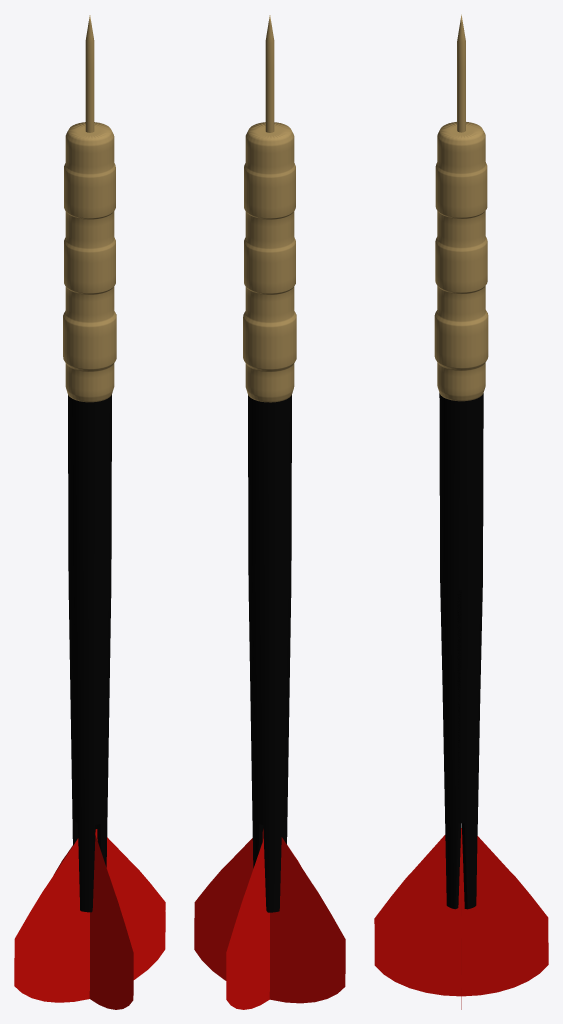
3 views of the same model, side by side, from view 1: azimuth 30°, elevation 25°; view 2: azimuth 150°, elevation 25°; view 3: azimuth 270°, elevation 25° (orthographic).
Parts seen in each view (by area): view 1: Cylinder.002_4, Cylinder.001_3, Circle_5, Circle.001_6, Cylinder_2; view 2: Cylinder.002_4, Cylinder.001_3, Circle_5, Circle.001_6, Cylinder_2; view 3: Cylinder.002_4, Circle.001_6, Cylinder.001_3, Cylinder_2.
Part boxes in pixels (x1=…): Cylinder.002_4: x1=68, y1=394, x2=111, y2=912; Cylinder.001_3: x1=63, y1=122, x2=116, y2=402; Circle_5: x1=14, y1=829, x2=165, y2=1002; Circle.001_6: x1=54, y1=835, x2=133, y2=1009; Cylinder_2: x1=85, y1=15, x2=94, y2=132; Cylinder.002_4: x1=248, y1=395, x2=291, y2=912; Cylinder.001_3: x1=243, y1=122, x2=296, y2=402; Circle_5: x1=194, y1=829, x2=345, y2=1003; Circle.001_6: x1=226, y1=839, x2=300, y2=1009; Cylinder_2: x1=265, y1=15, x2=274, y2=132; Cylinder.002_4: x1=439, y1=393, x2=483, y2=909; Circle.001_6: x1=374, y1=828, x2=548, y2=996; Cylinder.001_3: x1=434, y1=122, x2=488, y2=401; Cylinder_2: x1=457, y1=14, x2=465, y2=132.
Size of the model in its own units: 3.13 by 19.48 by 3.13.
